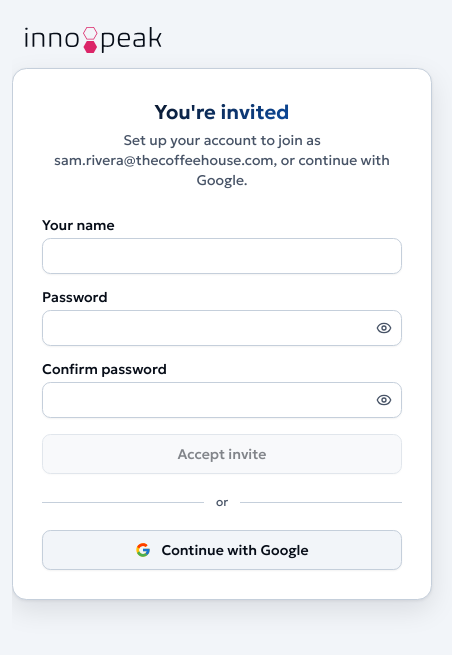
AcceptInviteView (tenant member) › refuses to submit when the confirmation does not match
Type "Sam Rivera" into the field labelled "Your name" at coordinates (222, 256), box top-left (42, 238), bottom-right (402, 274)
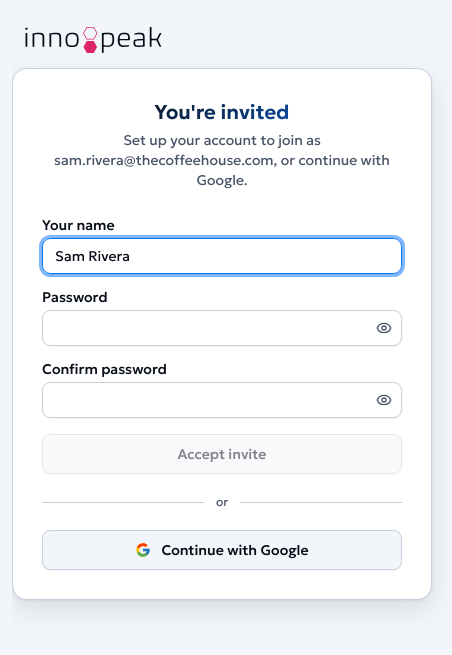
Type "NewStr0ng@Pass" into the password field labelled "Password" at coordinates (222, 328), box top-left (42, 310), bottom-right (402, 346)
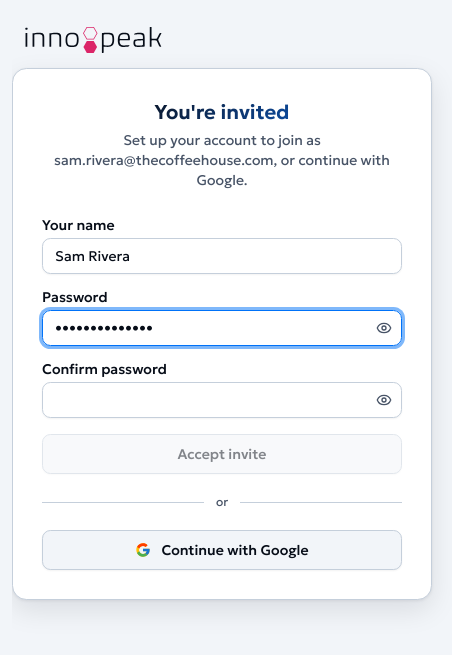
Type "Different@Pass1" into the password field labelled "Confirm password" at coordinates (222, 400), box top-left (42, 382), bottom-right (402, 418)
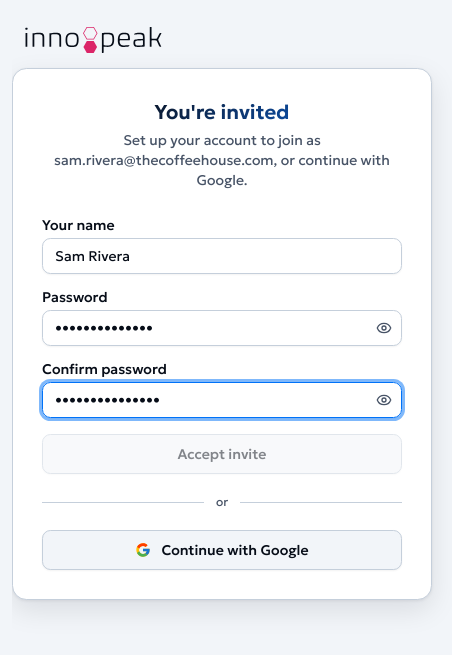
Click the button "Accept invite" at coordinates (222, 454), box top-left (42, 434), bottom-right (402, 474)
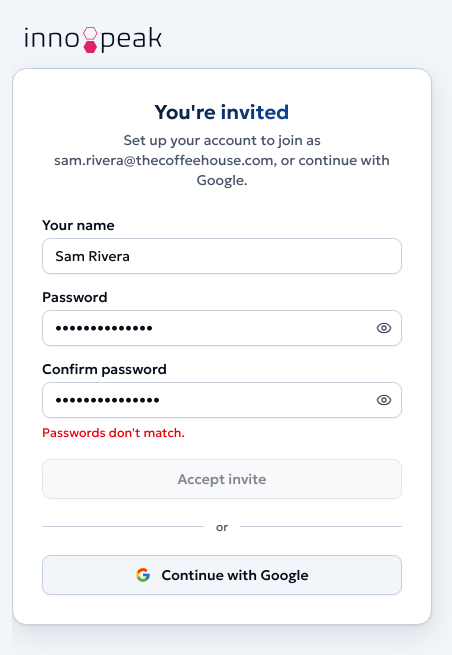
Now the text "Passwords don't match." is shown, box top-left (42, 425), bottom-right (185, 440)
